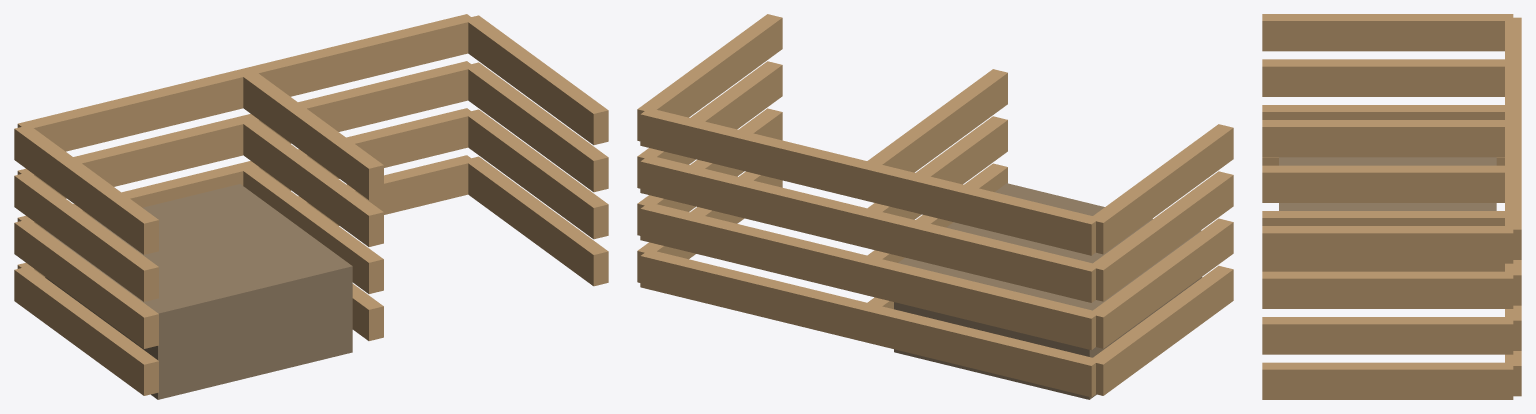
Rendered from cozy-farm-and-homestead-compost-bays-24adb7bc__19381.glb.
3 renders of one model, left to right at view 1: azimuth 30°, elevation 25°; view 2: azimuth 150°, elevation 25°; view 3: azimuth 270°, elevation 25°, orthographic. The views are drawn at different scales.
Visible parts, largest first — view 1: compost-bays; view 2: compost-bays; view 3: compost-bays.
Part boxes in pixels (bbox=[...]): compost-bays: bbox=[14, 14, 608, 399]; compost-bays: bbox=[637, 14, 1233, 399]; compost-bays: bbox=[1262, 14, 1521, 399].
Bounding box in the file's own units: 3.1 × 1.2 × 1.55.
